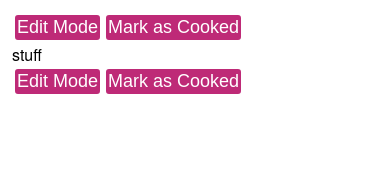
Test: AdminButton component › Clicking "Read Only Mode" causes "Edit Mode" button to render
Click the 1st button "Edit Mode" at (58, 28), box [15,15,100,40]
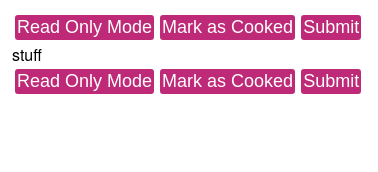
Click the 1st button "Read Only Mode" at (85, 28), box [15,15,154,40]
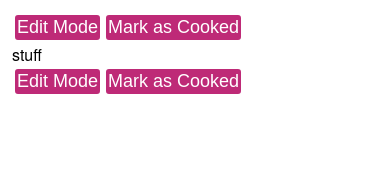
expect the number of buttons "Edit Mode" is 2: met, box [15,15,100,40]; [15,69,100,94]
